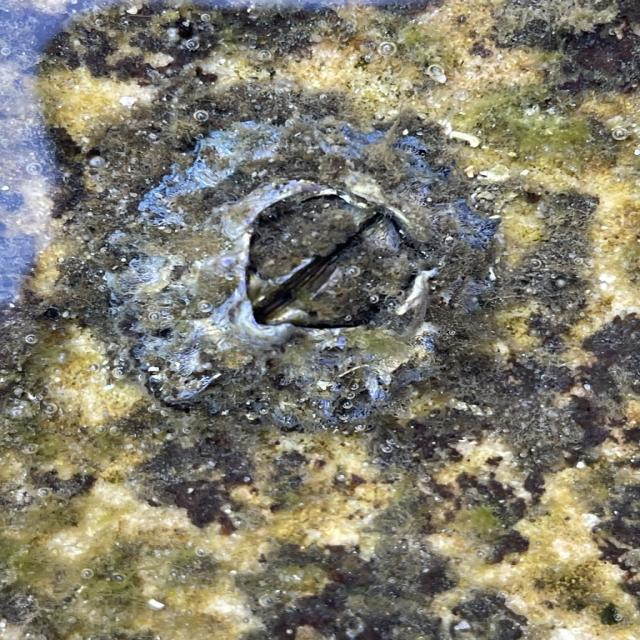barnacles: (79, 81, 499, 462)
